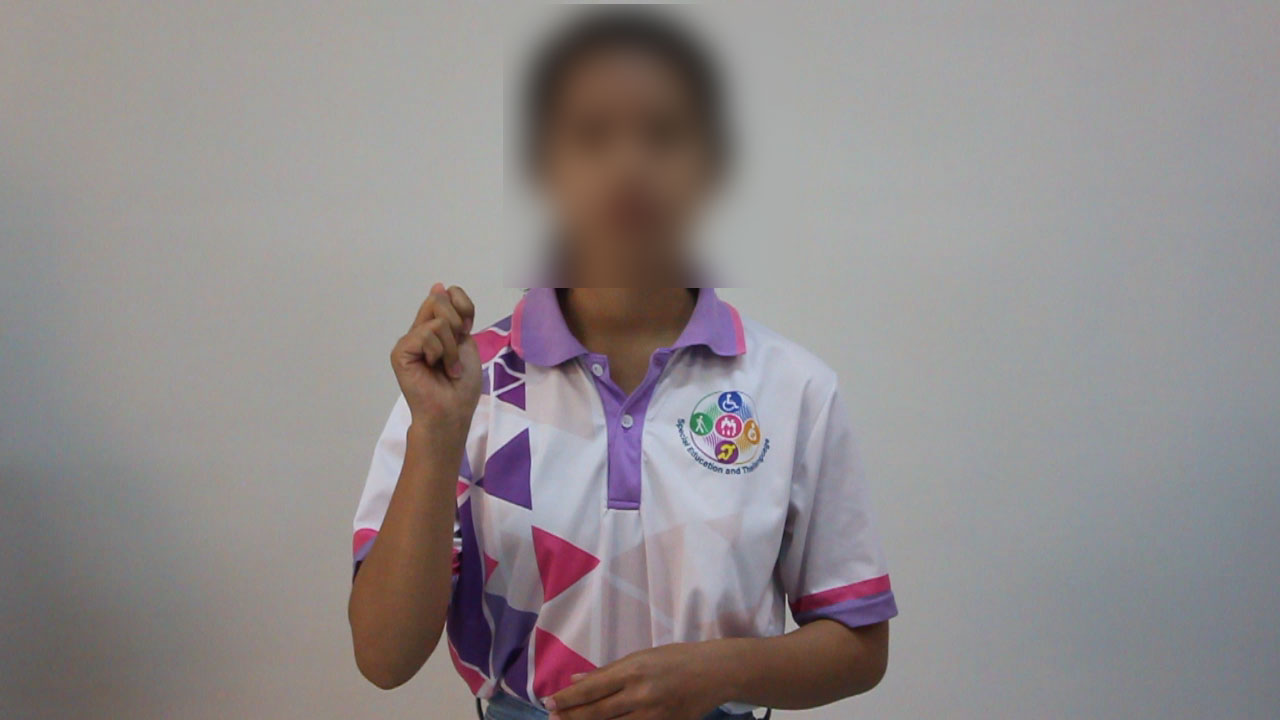tor: (377, 273, 521, 447)
